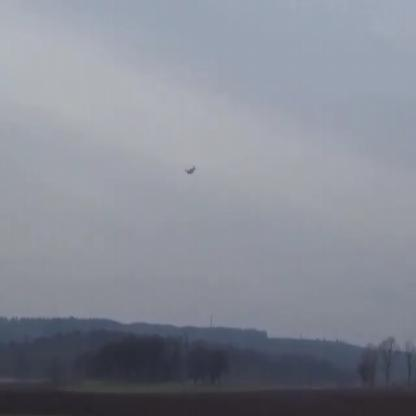CIV_Plane: (185, 166, 197, 176)
